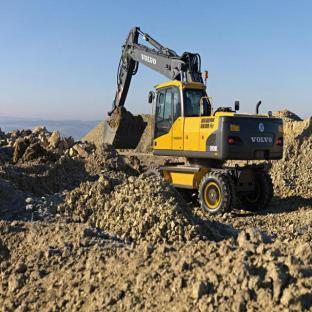ExcavationMachinery: (93, 34, 285, 211)
